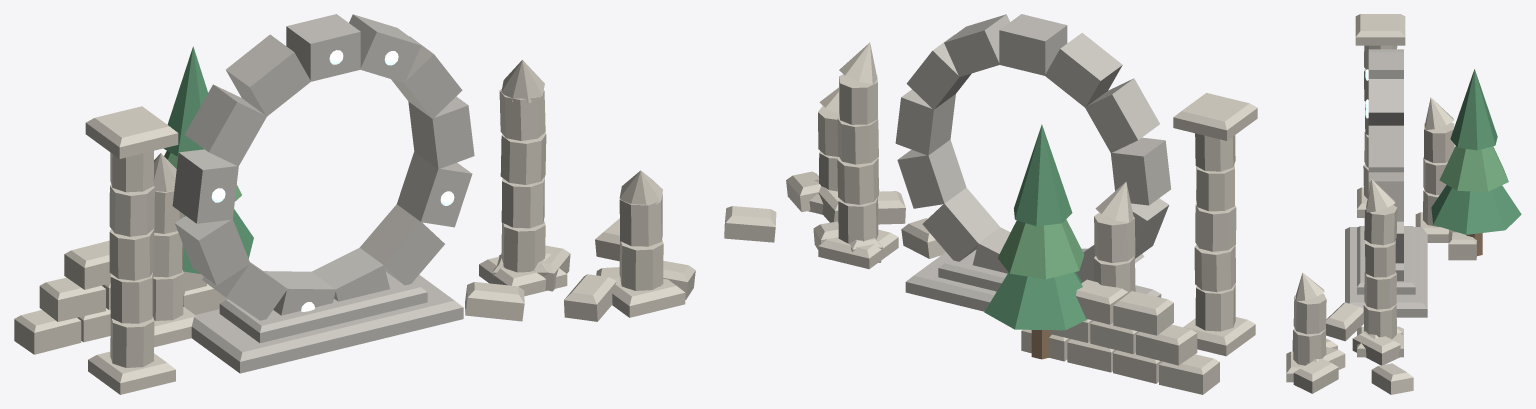
Rendered from props_back.glb.
3 views of the same model, side by side, from view 1: azimuth 30°, elevation 25°; view 2: azimuth 150°, elevation 25°; view 3: azimuth 270°, elevation 25° (orthographic). The views are drawn at different scales.
Size of the model in its own units: 0.417 by 0.2058 by 0.2.
